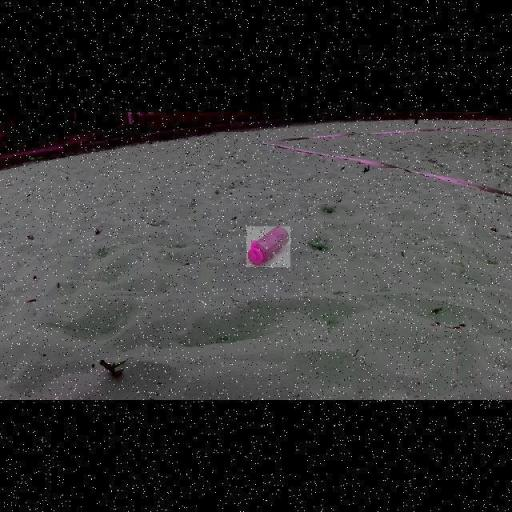bottle: (246, 226, 290, 268)
